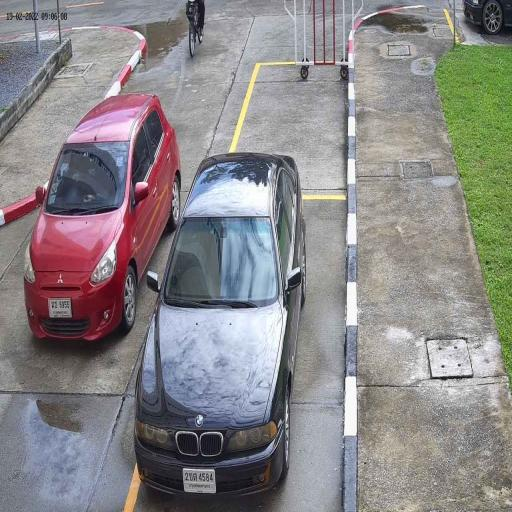car: (136, 151, 308, 505), (22, 92, 183, 346)
